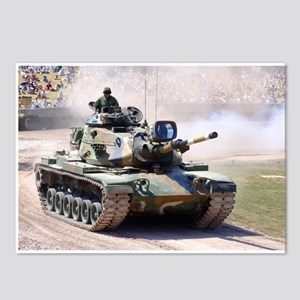Battle Tank: (32, 103, 236, 233)
